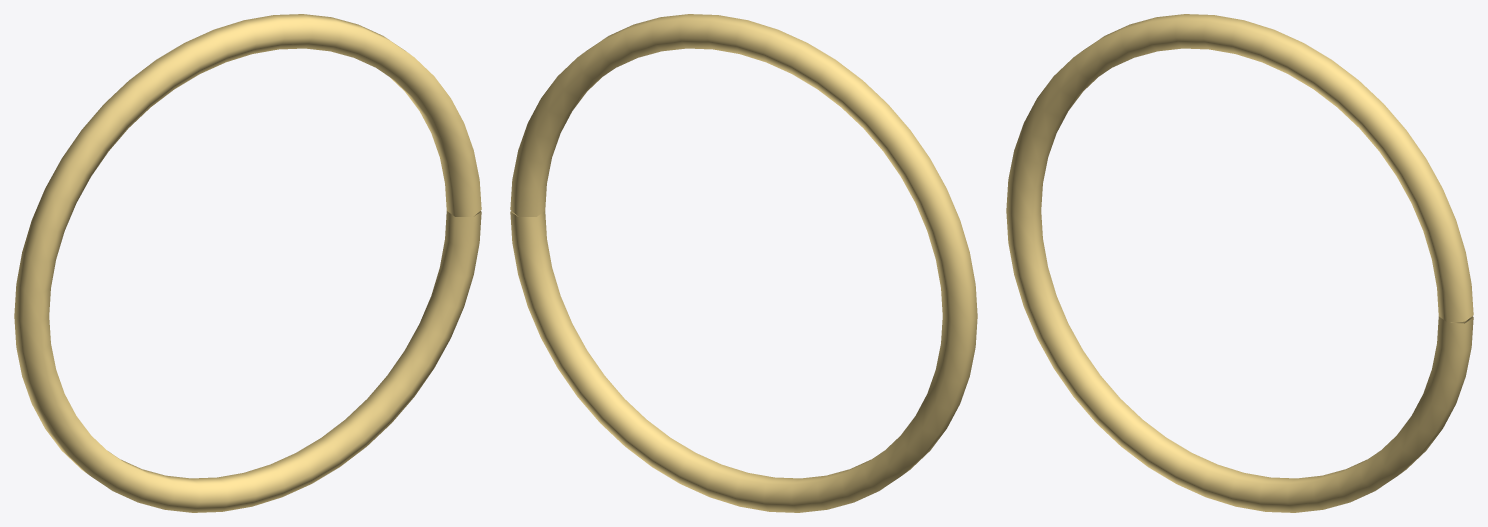
Rendered from Halo.obj.
3 views of the same model, side by side, from view 1: azimuth 30°, elevation 25°; view 2: azimuth 150°, elevation 25°; view 3: azimuth 330°, elevation 25° (orthographic).
Visible parts, largest first — view 1: Halo; view 2: Halo; view 3: Halo.
Part boxes in pixels (x1,y1,x2,y2): Halo: (14, 14, 481, 512); Halo: (510, 14, 977, 512); Halo: (1006, 14, 1473, 512).
Size of the model in its own units: 2.12 by 2.12 by 0.14.
Materials: 1 (1 with a texture image).
